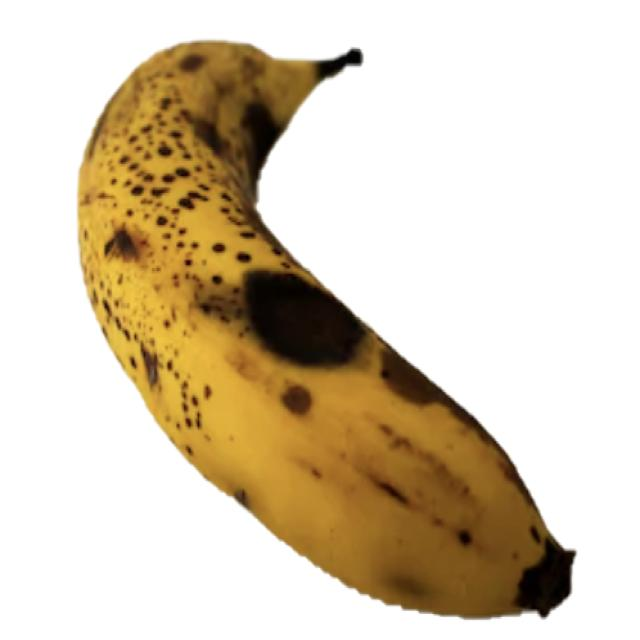rotten-banana: (76, 37, 576, 620)
